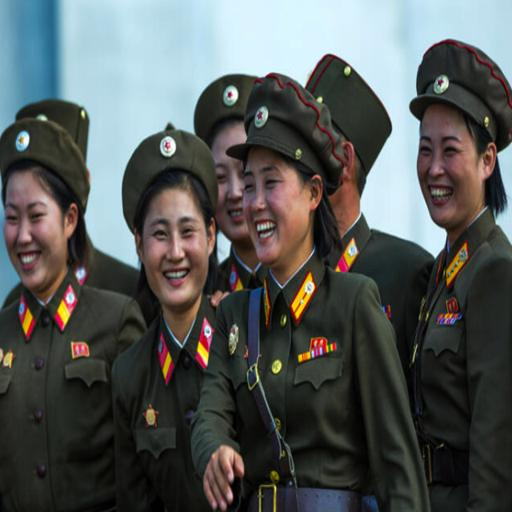north army: (3, 54, 512, 512)
